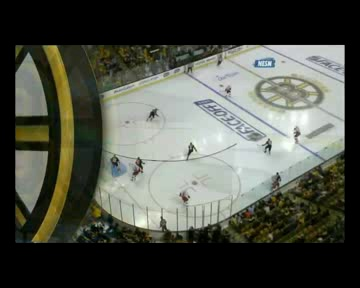normal: (181, 138, 200, 166)
